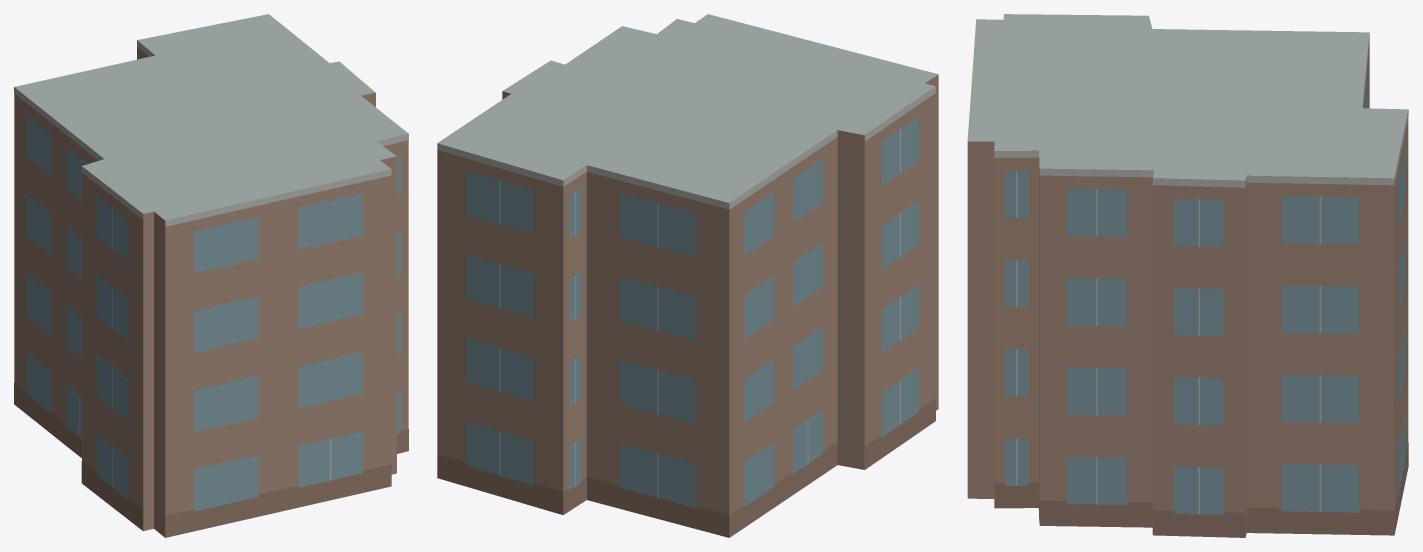
The model's file is survey-upis-32593649.glb.
The picture shows the model from 3 angles, left to right: view 1: azimuth 30°, elevation 25°; view 2: azimuth 150°, elevation 25°; view 3: azimuth 270°, elevation 25°; orthographic projection. The views are drawn at different scales.
Parts seen in each view (by area): view 1: survey-upis-32593649.tmp; view 2: survey-upis-32593649.tmp; view 3: survey-upis-32593649.tmp.
Part boxes in pixels (box(x1,y1,x2,y2)): survey-upis-32593649.tmp: box(14, 14, 408, 537); survey-upis-32593649.tmp: box(437, 14, 938, 537); survey-upis-32593649.tmp: box(967, 14, 1408, 537).
Bounding box in the file's own units: 12.42 × 12.4 × 13.88.
